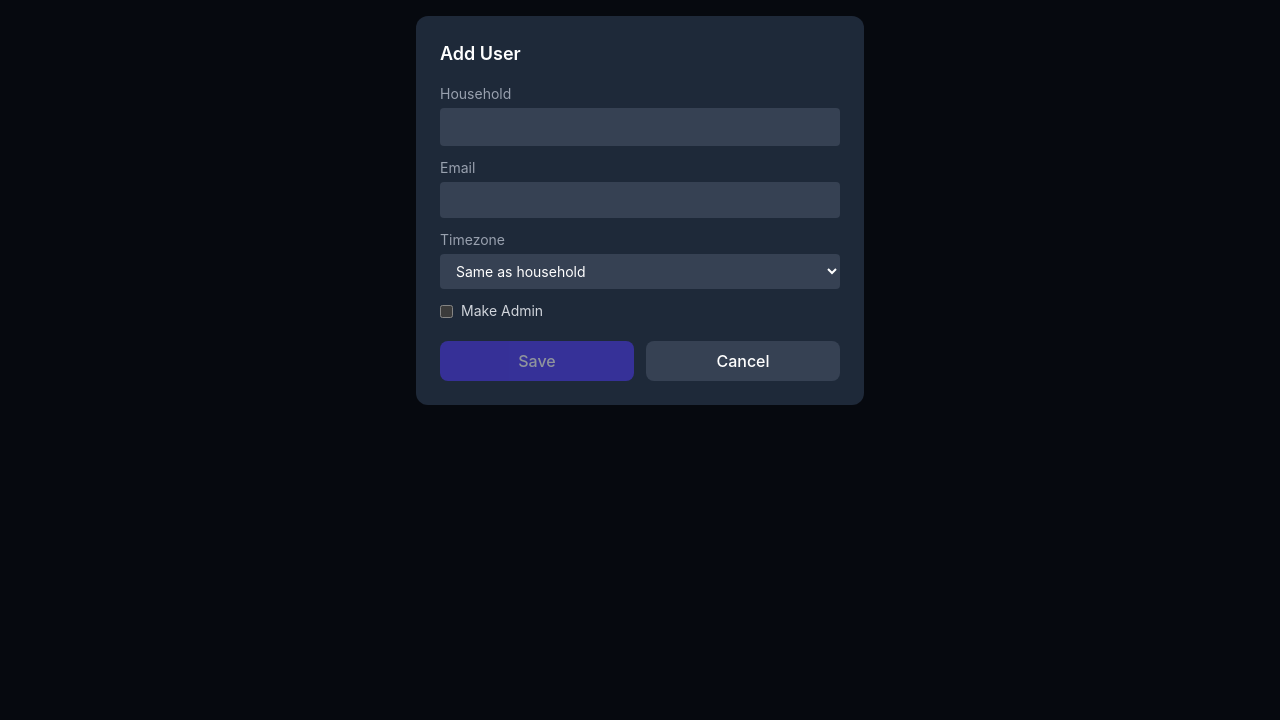
AddUserModal › fetches and lists households from GET /api/admin/households
The width and height of the screenshot is (1280, 720).
Click the dropdown labelled "Household" at point(640, 127), box [440, 108, 840, 146]
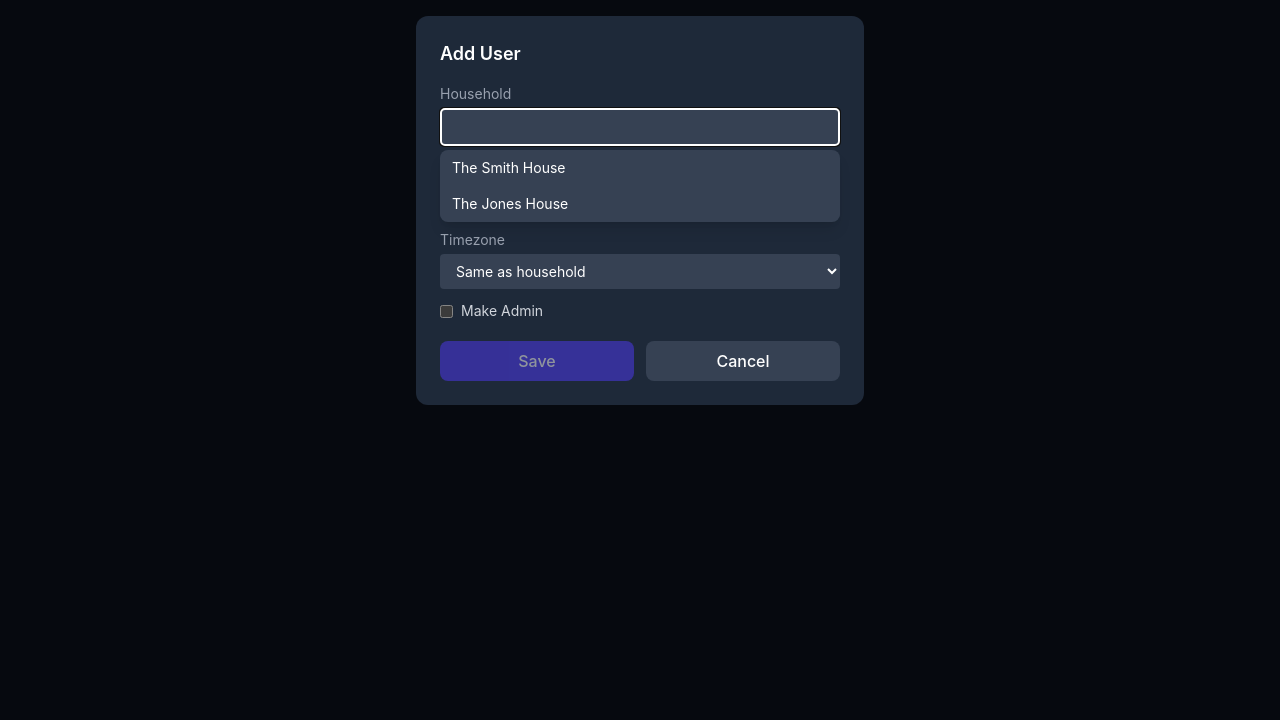
Expected: the option "The Smith House" is shown, [452, 159, 566, 176]
Expected: the option "The Jones House" is shown, [452, 195, 568, 212]
